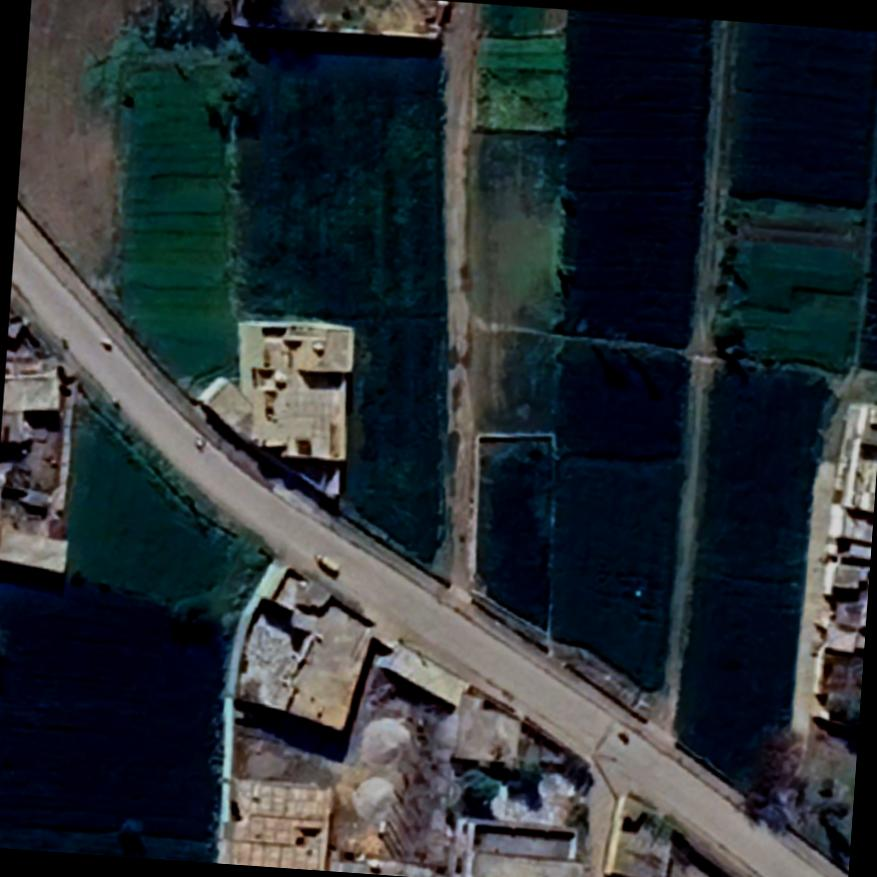Solarpanel: (477, 872, 575, 877)
